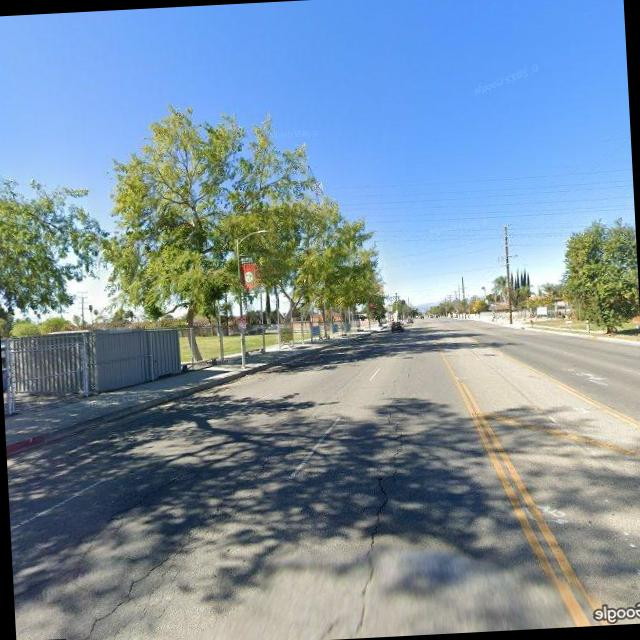pothole: (71, 431, 300, 640), (336, 382, 420, 636)
